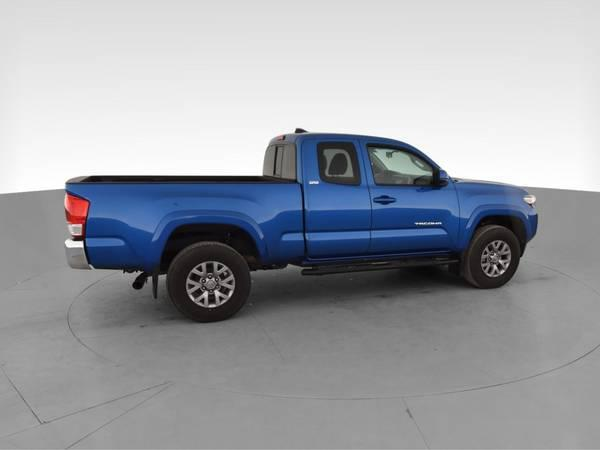Front_Fender: (453, 182, 539, 257)
Front_Right_Door: (370, 187, 463, 258)
Front_Right_Window: (359, 136, 454, 185)
Rear_Bumper: (65, 239, 92, 274)
Rear_Fender: (64, 182, 305, 271)
Rear_Right_Door: (303, 185, 373, 261)
Rear_Right_Window: (300, 135, 367, 185)
Rear_Windshield: (262, 135, 301, 181)
Right_Taillight: (63, 192, 88, 240)
Wheel: (164, 242, 251, 324), (461, 225, 520, 288)
